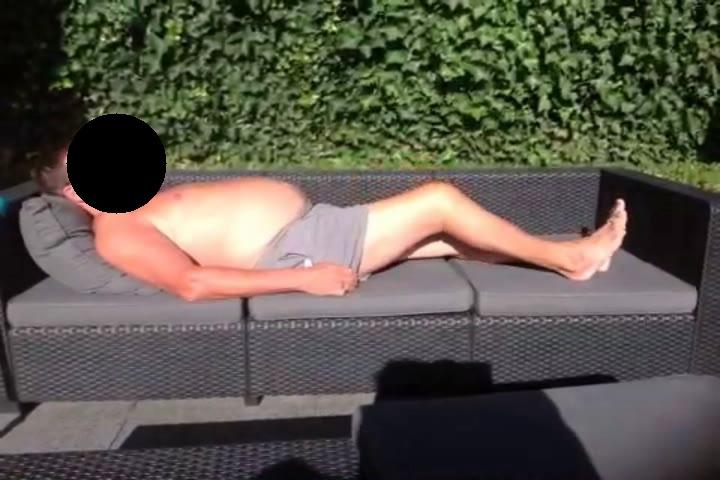lower_body: (280, 179, 632, 286)
